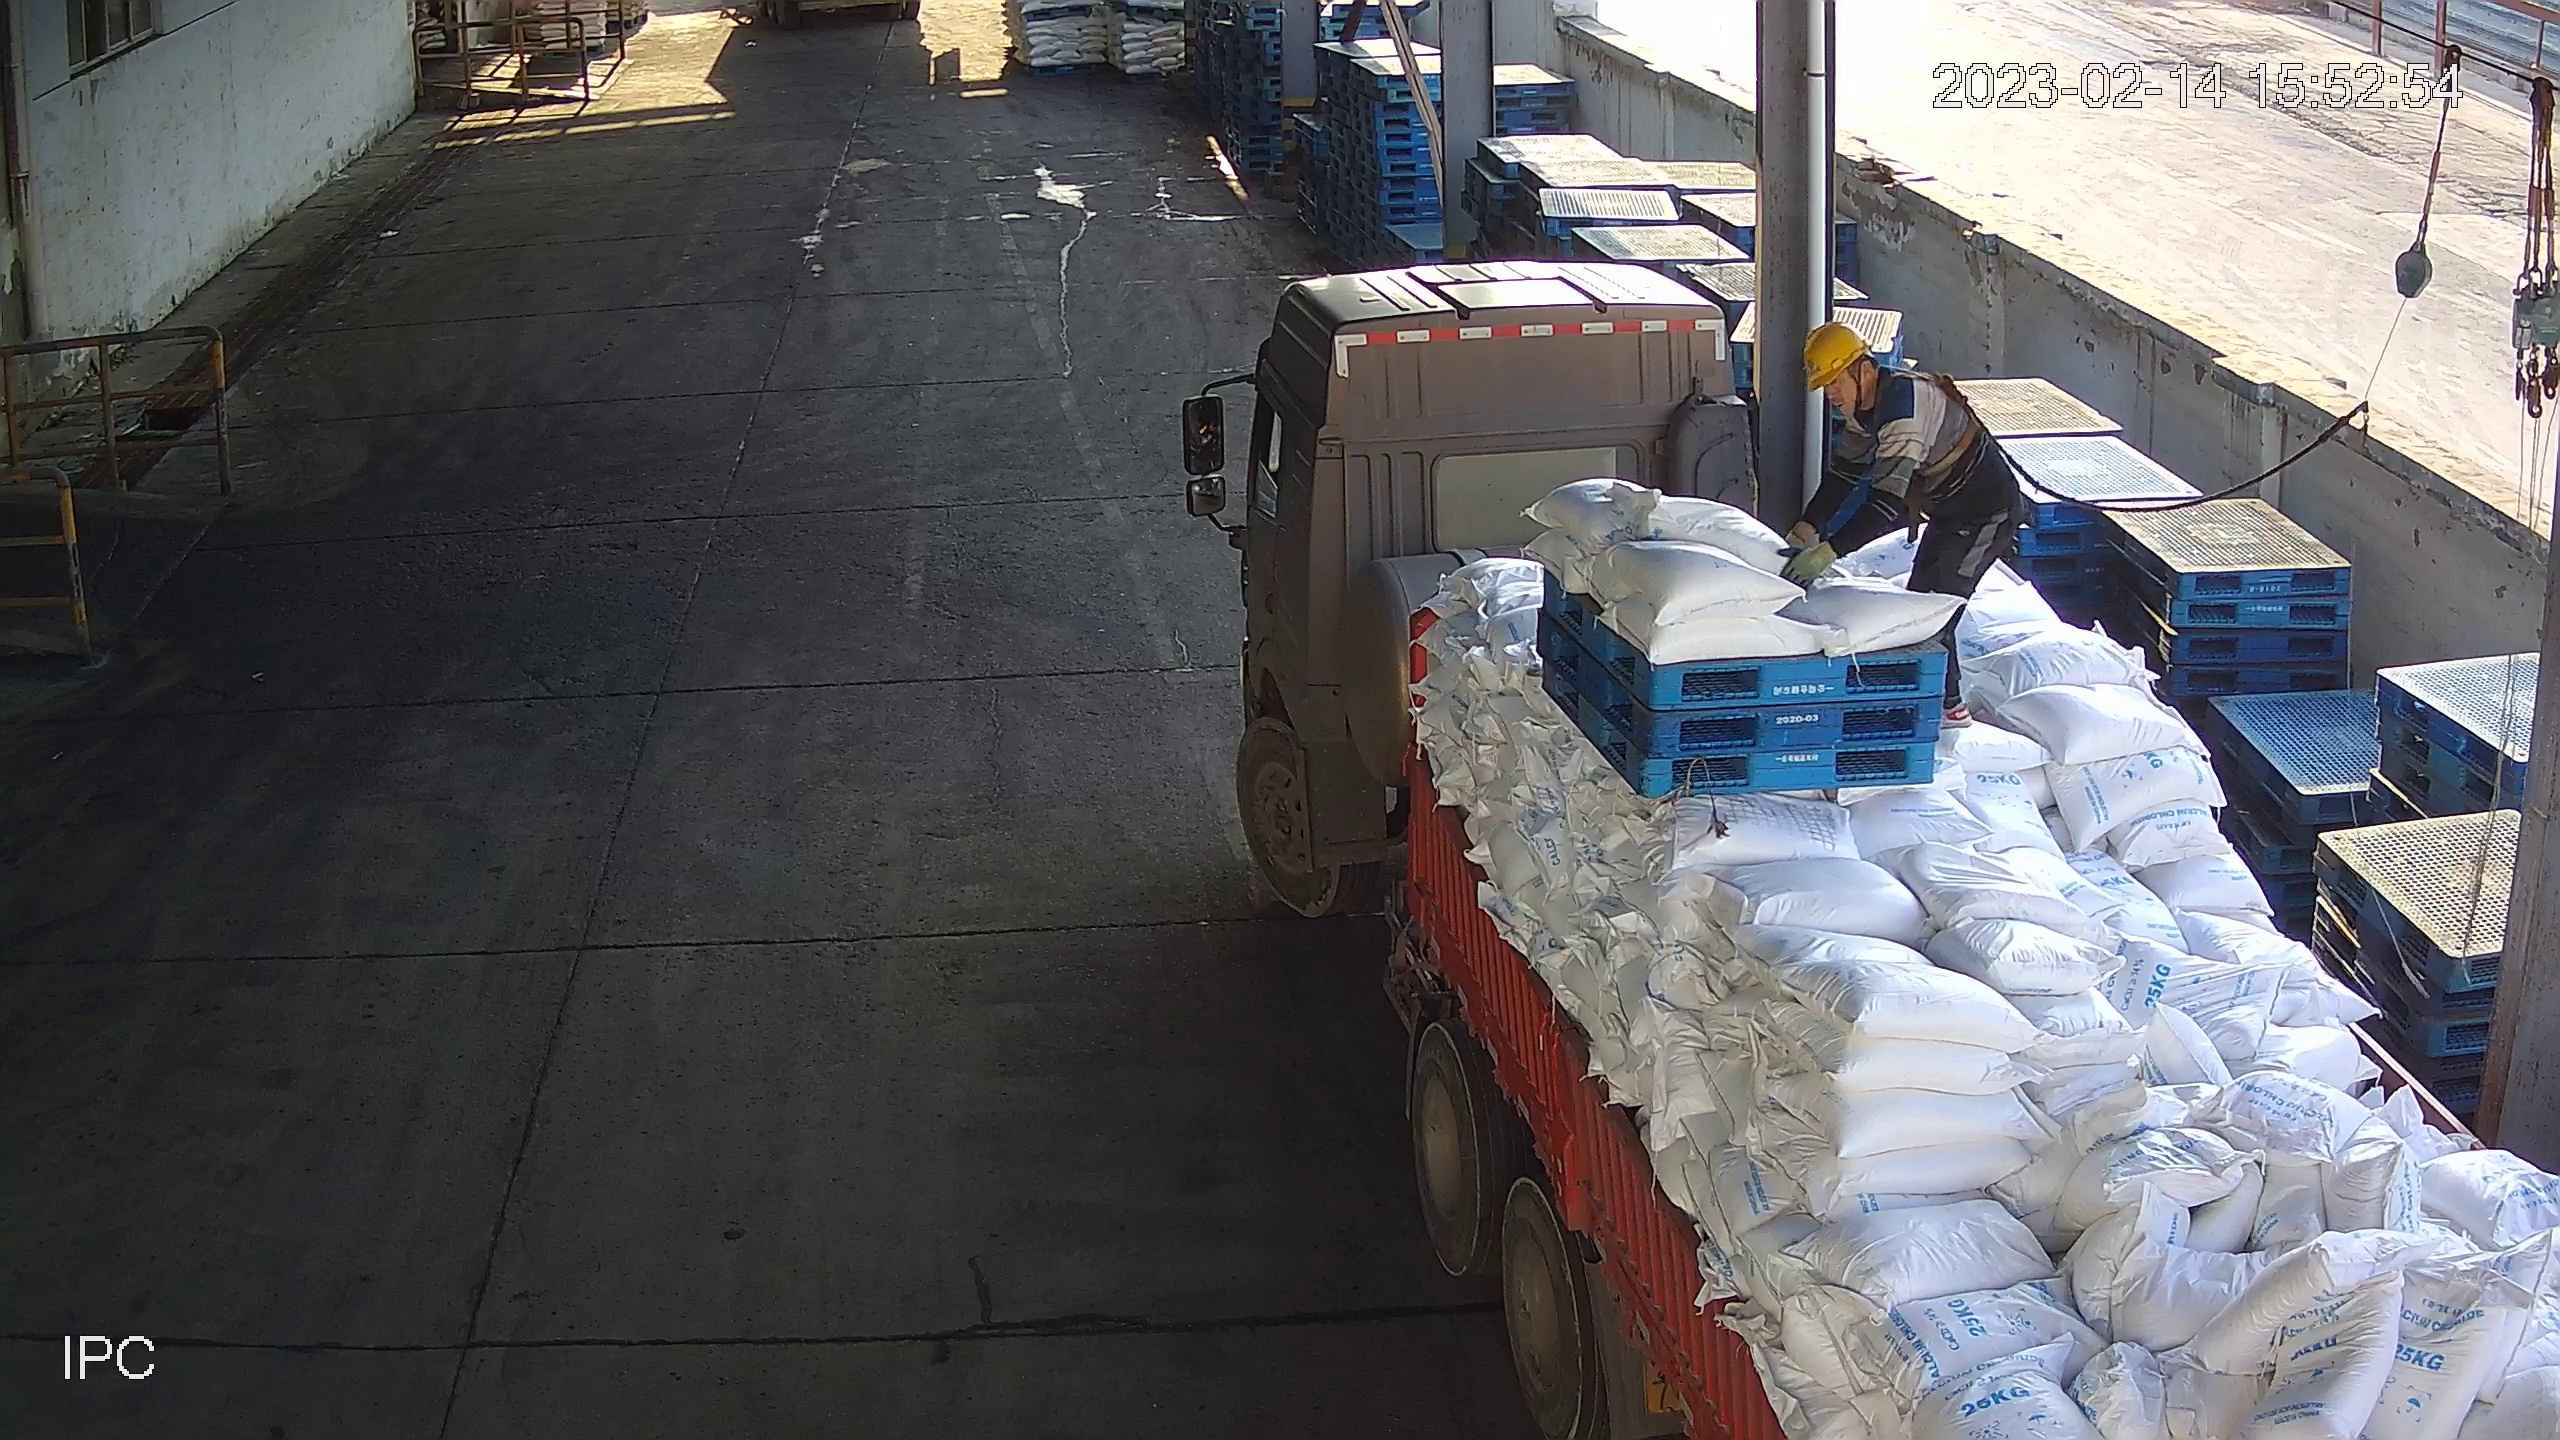belt: (1867, 357, 1974, 474)
head: (1801, 322, 1969, 491)
helmet: (1801, 317, 1873, 388)
people: (1771, 313, 2029, 737)
truck: (1179, 254, 2560, 1440)
